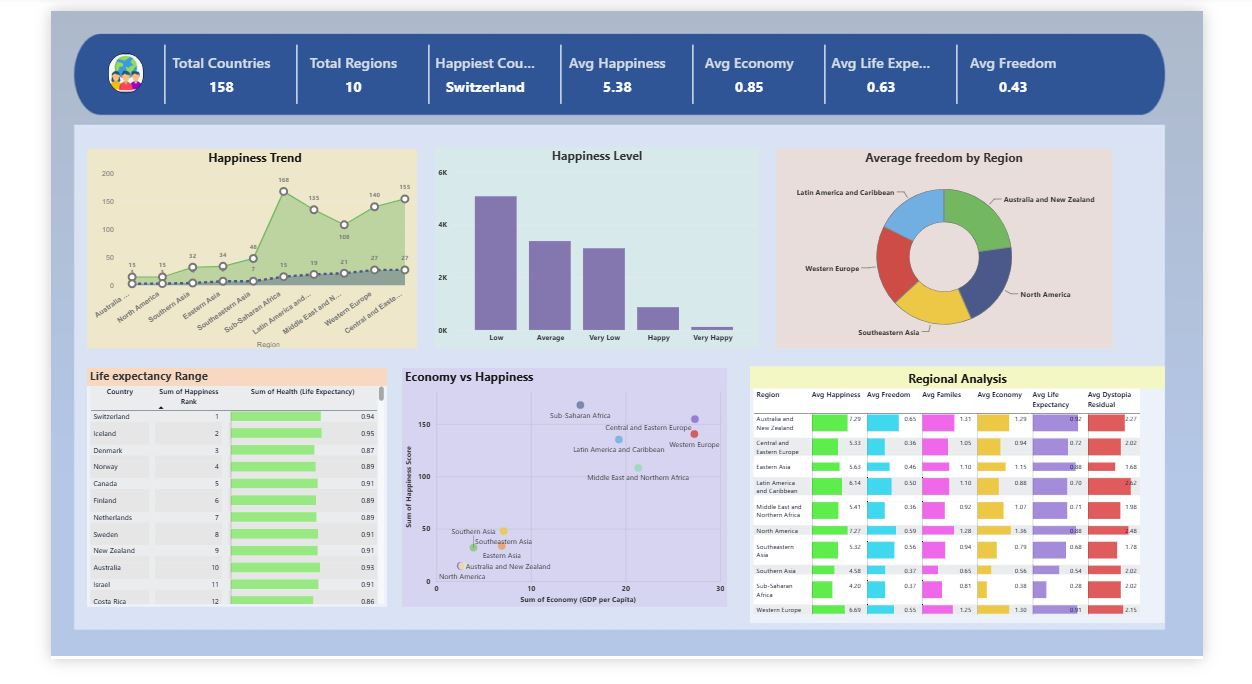

What the dashboard file says about the page in this screenshot:
{"tool":"powerbi","page":{"name":" dashboard","canvas":[1920,1080],"ordinal":0},"visuals":[{"type":"lineChart","title":"Happiness Trend","fields":{"Category":["2015.Region"],"Y":["Sum(2015.Happiness Score)","Sum(2015.Economy (GDP per Capita))"]},"box":[60,230,550,332],"z":0},{"type":"lineStackedColumnComboChart","title":" Happiness Level","fields":{"Category":["Global Data.Happiness Level"],"Y":["Sum(Global Data.Happiness Rank)"]},"box":[640,228,540,334],"z":1000},{"type":"donutChart","title":" Average freedom by Region","fields":{"Category":["Global Data.Region"],"Y":["Global Data.Avg Freedom"]},"box":[1208.5,229.8,561.7,331.9],"z":2000},{"type":"tableEx","title":"Regional Analysis","fields":{"Values":["Global Data.Region","Global Data.Avg Happiness","Global Data.Avg Freedom","Global Data.Avg Familes","Global Data.Avg Economy","Global Data.Avg Life Expectancy","Global Data.Avg Dystopia Residual"]},"box":[1163.8,593.6,691.5,427.7],"z":3000},{"type":"scatterChart","title":"Economy vs Happiness","fields":{"Y":["Sum(Global Data.Happiness Score)"],"Series":["Global Data.Region"],"X":["Sum(Global Data.Economy (GDP per Capita))"]},"box":[586,594,542,398],"z":4000},{"type":"tableEx","title":"Life expectancy Range","fields":{"Values":["2015.Country","Sum(2015.Happiness Rank)","Sum(2015.Health (Life Expectancy))"]},"box":[60,594,500,398],"z":5000},{"type":"cardVisual","fields":{"Data":["Global Data.Total Countries","Global Data.Total Regions","Global Data.Happiest Country","Global Data.Avg Happiness","Global Data.Avg Economy","Global Data.Avg Life Expectancy","Global Data.Avg Freedom"]},"box":[173.3,40,1543.3,130],"z":6000},{"type":"image","box":[90,64.4,68.9,76.7],"z":7000}]}

Visuals, with their boxes in screenshot pixels (x1, y1, x2, y2), scaled from the page's 1920x1080 canvas onto the 1252x684 screenshot:
"Happiness Trend" lineChart: BBox(39, 146, 398, 356)
" Happiness Level" lineStackedColumnComboChart: BBox(417, 144, 769, 356)
" Average freedom by Region" donutChart: BBox(788, 146, 1154, 356)
"Regional Analysis" tableEx: BBox(759, 376, 1210, 647)
"Economy vs Happiness" scatterChart: BBox(382, 376, 736, 628)
"Life expectancy Range" tableEx: BBox(39, 376, 365, 628)
cardVisual - Global Data.Total Countries x Global Data.Total Regions: BBox(113, 25, 1119, 108)
image: BBox(59, 41, 104, 89)
